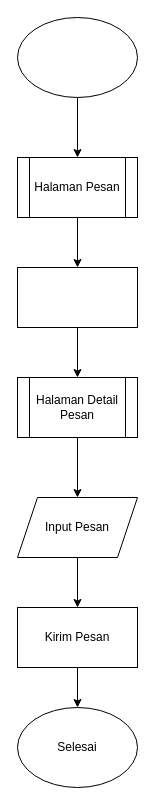
The diagram is 155 pixels wide and 805 high, and some of its shapes have lost their labels. Each missing label, with the box of its shape:
Mulai: (16, 16, 138, 98)
Pilih Siswa: (16, 266, 138, 328)
